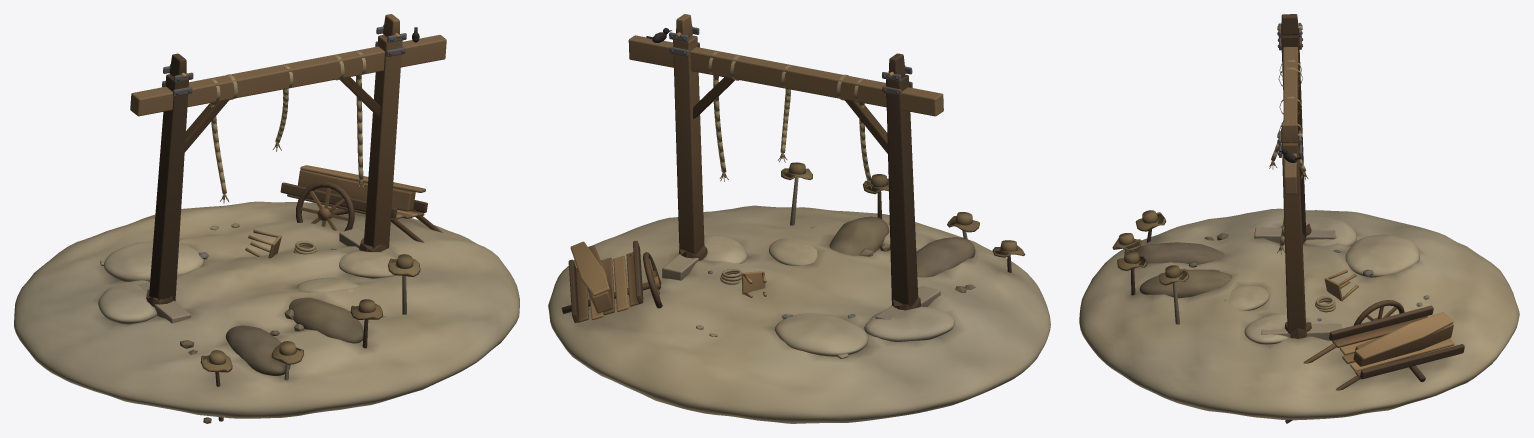
Rendered from gallows.ead8872c.glb.
3 renders of one model, left to right at view 1: azimuth 30°, elevation 25°; view 2: azimuth 150°, elevation 25°; view 3: azimuth 270°, elevation 25°, orthographic. The views are drawn at different scales.
Parts seen in each view (by area): view 1: gallows; view 2: gallows; view 3: gallows.
Part boxes in pixels (left/top/right/bottom): gallows: left=14, top=14, right=519, bottom=423; gallows: left=548, top=14, right=1050, bottom=423; gallows: left=1079, top=14, right=1519, bottom=423.
Bounding box in the file's own units: 7.97 × 5.35 × 7.35.
